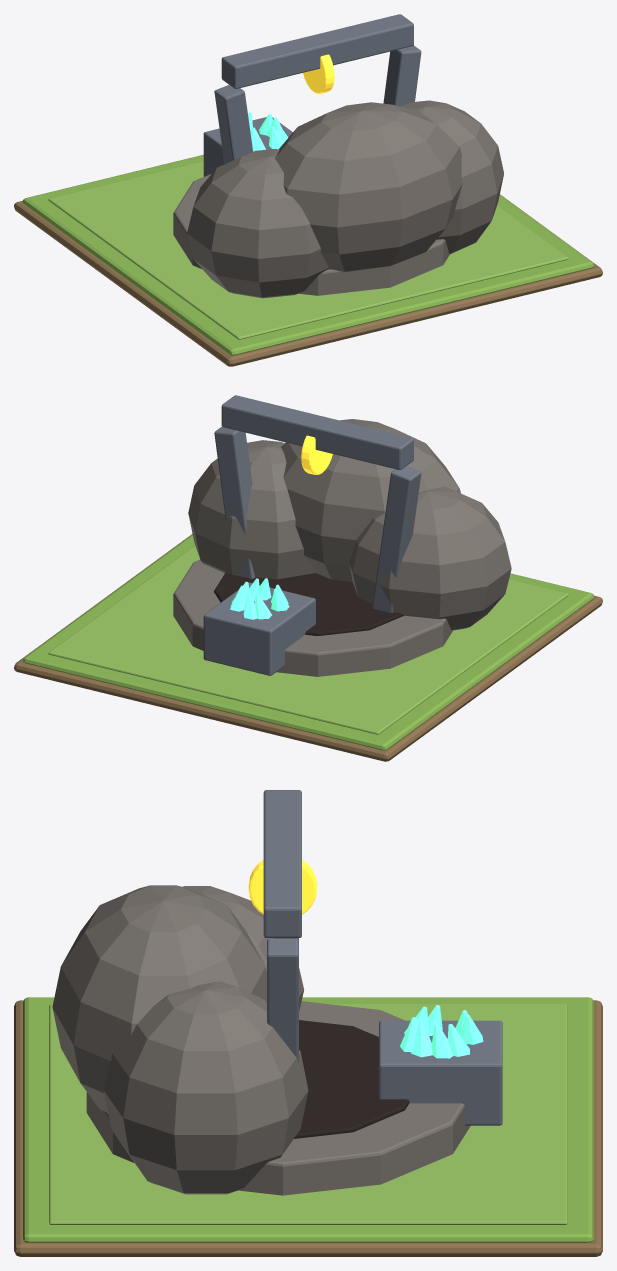
The model's file is gem_mine_lv8.glb.
3 views of the same model, one above another, from view 1: azimuth 30°, elevation 25°; view 2: azimuth 150°, elevation 25°; view 3: azimuth 270°, elevation 25° (orthographic). The views are drawn at different scales.
Parts seen in each view (by area): view 1: GemRock_2, Base_Inner, GemRock_0, Base_Grass, Base_Dirt, GemHoistBeam, GemRock_1, QuarryPitRim, GemHoistPost_-1, GemHoistPost_1, GemCartBody, GemPulley; view 2: Base_Inner, GemRock_0, Base_Grass, GemRock_2, GemRock_1, QuarryPitRim, Base_Dirt, GemHoistBeam, GemCartBody, QuarryPitHole, GemHoistPost_-1, GemHoistPost_1 (+1 smaller); view 3: Base_Inner, GemRock_1, Base_Grass, GemRock_2, QuarryPitRim, Base_Dirt, GemCartBody, QuarryPitHole, GemHoistBeam, GemHoistPost_1, GemRock_0, GemPulley.
Boxes of the visible parts, bbox=[...] form: GemRock_2: bbox=[275, 102, 462, 272]; Base_Inner: bbox=[48, 161, 568, 339]; GemRock_0: bbox=[187, 149, 328, 298]; Base_Grass: bbox=[22, 154, 594, 355]; Base_Dirt: bbox=[14, 194, 602, 366]; GemHoistBeam: bbox=[221, 14, 413, 88]; GemRock_1: bbox=[401, 100, 503, 253]; QuarryPitRim: bbox=[173, 174, 449, 295]; GemHoistPost_-1: bbox=[214, 85, 252, 164]; GemHoistPost_1: bbox=[383, 45, 421, 106]; GemCartBody: bbox=[203, 117, 292, 176]; GemPulley: bbox=[303, 54, 334, 93]; Base_Inner: bbox=[48, 545, 568, 734]; GemRock_0: bbox=[349, 486, 511, 630]; Base_Grass: bbox=[22, 534, 594, 750]; GemRock_2: bbox=[281, 419, 460, 581]; GemRock_1: bbox=[188, 440, 314, 579]; QuarryPitRim: bbox=[173, 560, 452, 676]; Base_Dirt: bbox=[14, 534, 602, 761]; GemHoistBeam: bbox=[221, 395, 413, 469]; GemCartBody: bbox=[203, 582, 315, 675]; QuarryPitHole: bbox=[214, 572, 403, 635]; GemHoistPost_-1: bbox=[372, 466, 421, 612]; GemHoistPost_1: bbox=[214, 426, 254, 578]; Base_Inner: bbox=[49, 1004, 567, 1224]; GemRock_1: bbox=[103, 981, 308, 1194]; Base_Grass: bbox=[23, 997, 593, 1242]; GemRock_2: bbox=[52, 885, 266, 1111]; QuarryPitRim: bbox=[86, 1001, 470, 1195]; Base_Dirt: bbox=[14, 1000, 602, 1256]; GemCartBody: bbox=[379, 1020, 502, 1125]; QuarryPitHole: bbox=[294, 1020, 409, 1138]; GemHoistBeam: bbox=[263, 790, 301, 937]; GemHoistPost_1: bbox=[267, 938, 298, 1062]; GemRock_0: bbox=[182, 886, 304, 1011]; GemPulley: bbox=[248, 860, 316, 914].
Size of the model in its own units: 2.76 by 1.5 by 2.76.
